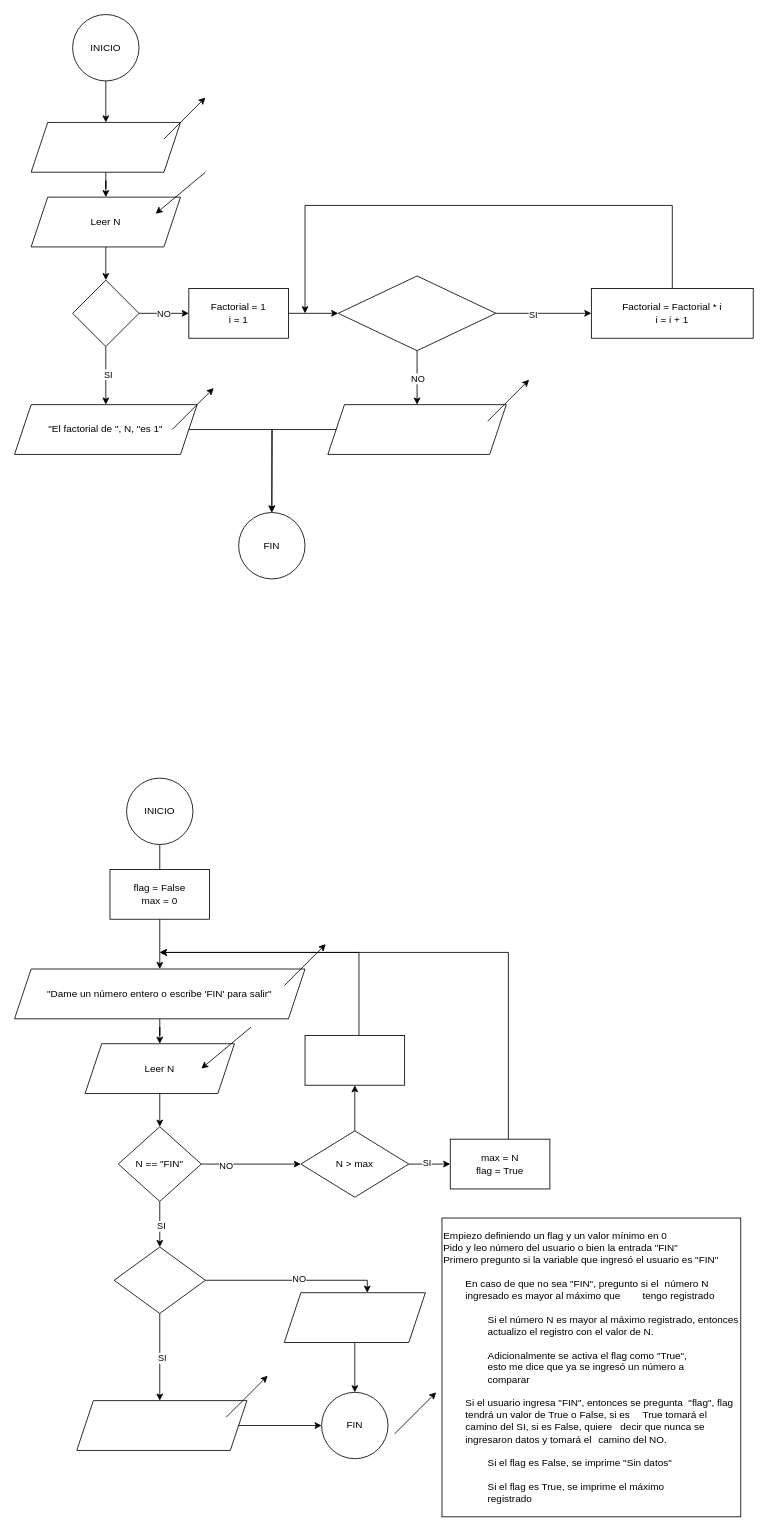
Some shapes in this 768 by 1531 pixel diagram are drawn without their labels. Here are the shapes that lost their labels. From the top down, the box of each, then its label:
(30, 122, 181, 172): "Dame un número entero"
(72, 279, 139, 347): N == 0
(337, 275, 496, 351): i <= N
(327, 404, 506, 454): "El factorial de ", N, "es", Factorial
(304, 1035, 405, 1085): flag = True
(113, 1246, 205, 1313): flag
(283, 1292, 425, 1343): "Sin datos"
(76, 1400, 247, 1450): "El máximo registrado fue ", max
